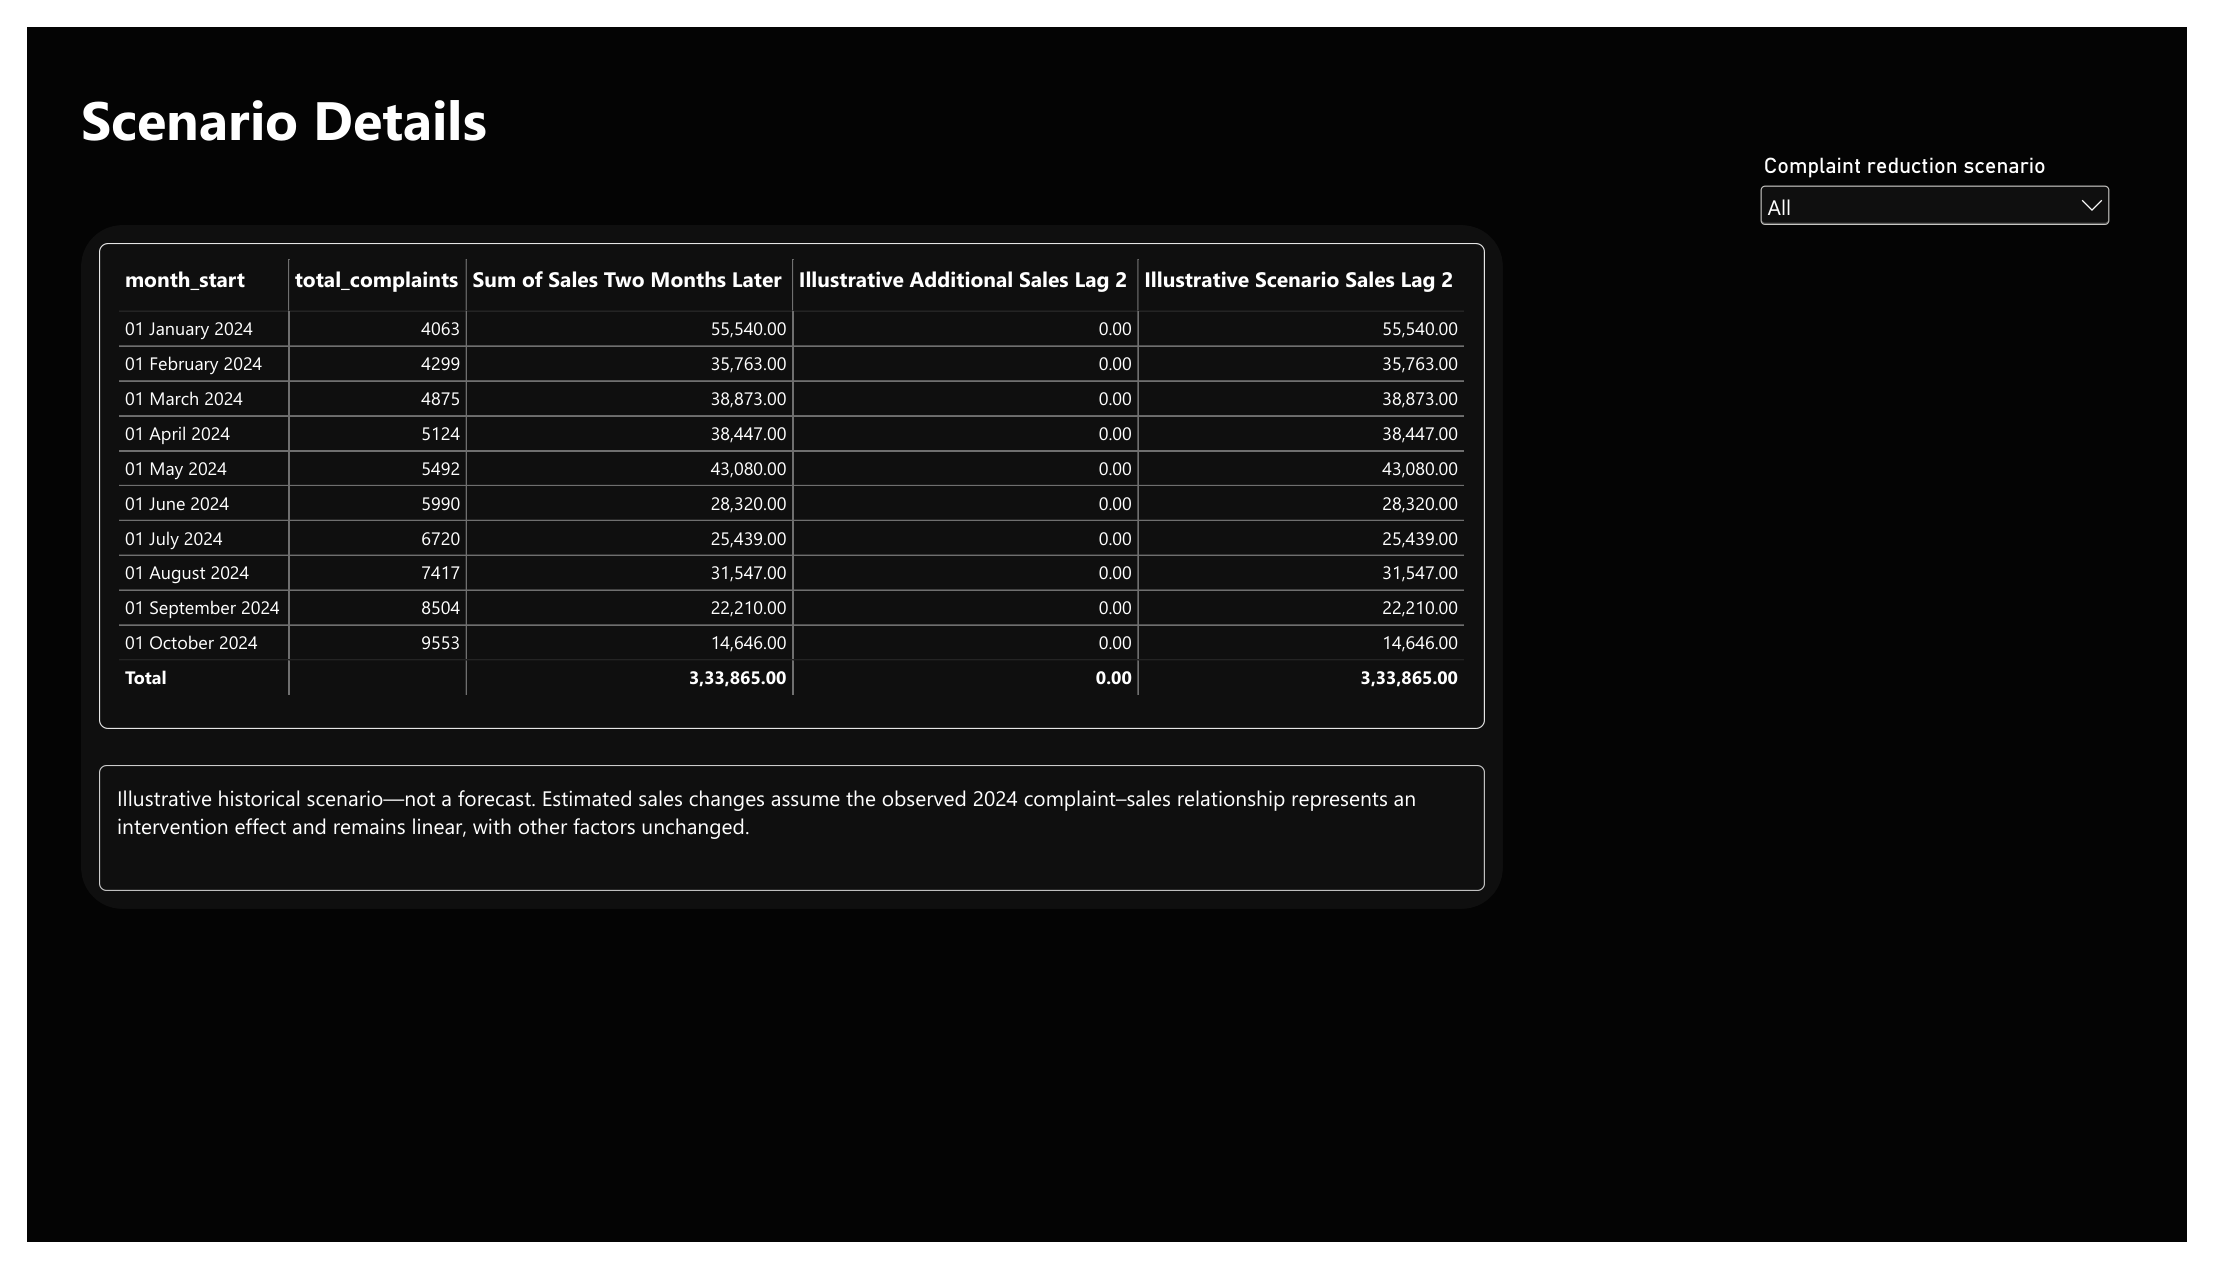

The page's visual inventory and layout, read from the dashboard file:
{"tool":"powerbi","page":{"name":"Scenario Details","canvas":[1920,1080],"ordinal":7},"visuals":[{"type":"shape","box":[48,176,1264,608],"z":0},{"type":"shape","box":[64,656,1232,112],"z":1000},{"type":"tableEx","fields":{"Values":["ola_star vw_monthly_kpis.month_start","ola_star vw_monthly_kpis.total_complaints","Sum(ola_star vw_monthly_kpis.Sales Two Months Later)","ola_star vw_monthly_kpis.Illustrative Additional Sales Lag 2","ola_star vw_monthly_kpis.Illustrative Scenario Sales Lag 2"]},"box":[64,192,1232,432],"z":2000},{"type":"slicer","fields":{"Values":["Complaint Reduction.Scenario"]},"box":[1536,112,320,160],"z":3000},{"type":"textbox","box":[80,672,1232,112],"z":4000},{"type":"textbox","box":[48,48,480,96],"z":5000}]}

Visuals, with their boxes in screenshot pixels (x1, y1, x2, y2), scaled from the page's 1920x1080 canvas onto the 2214x1269 screenshot:
shape: box(55, 207, 1513, 921)
shape: box(74, 771, 1494, 902)
tableEx - ola_star vw_monthly_kpis.month_start x ola_star vw_monthly_kpis.total_complaints: box(74, 226, 1494, 733)
slicer - Complaint Reduction.Scenario: box(1771, 132, 2140, 320)
textbox: box(92, 790, 1513, 921)
textbox: box(55, 56, 609, 169)
